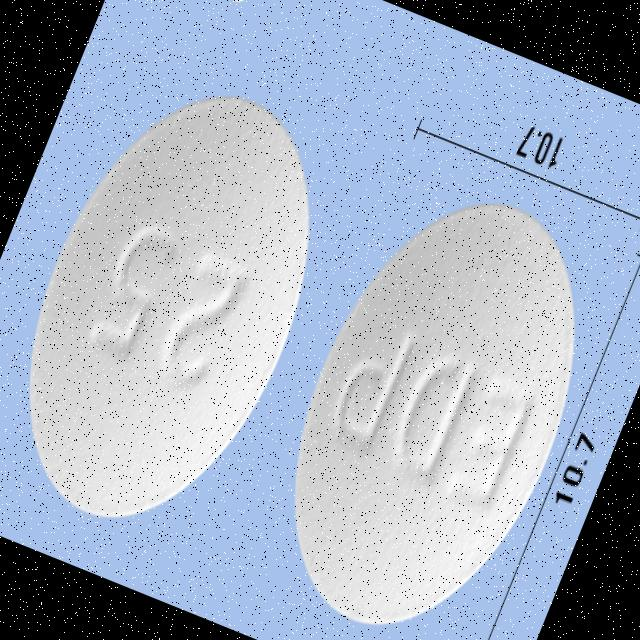Ciflox: (232, 155, 633, 640), (0, 50, 367, 563)
